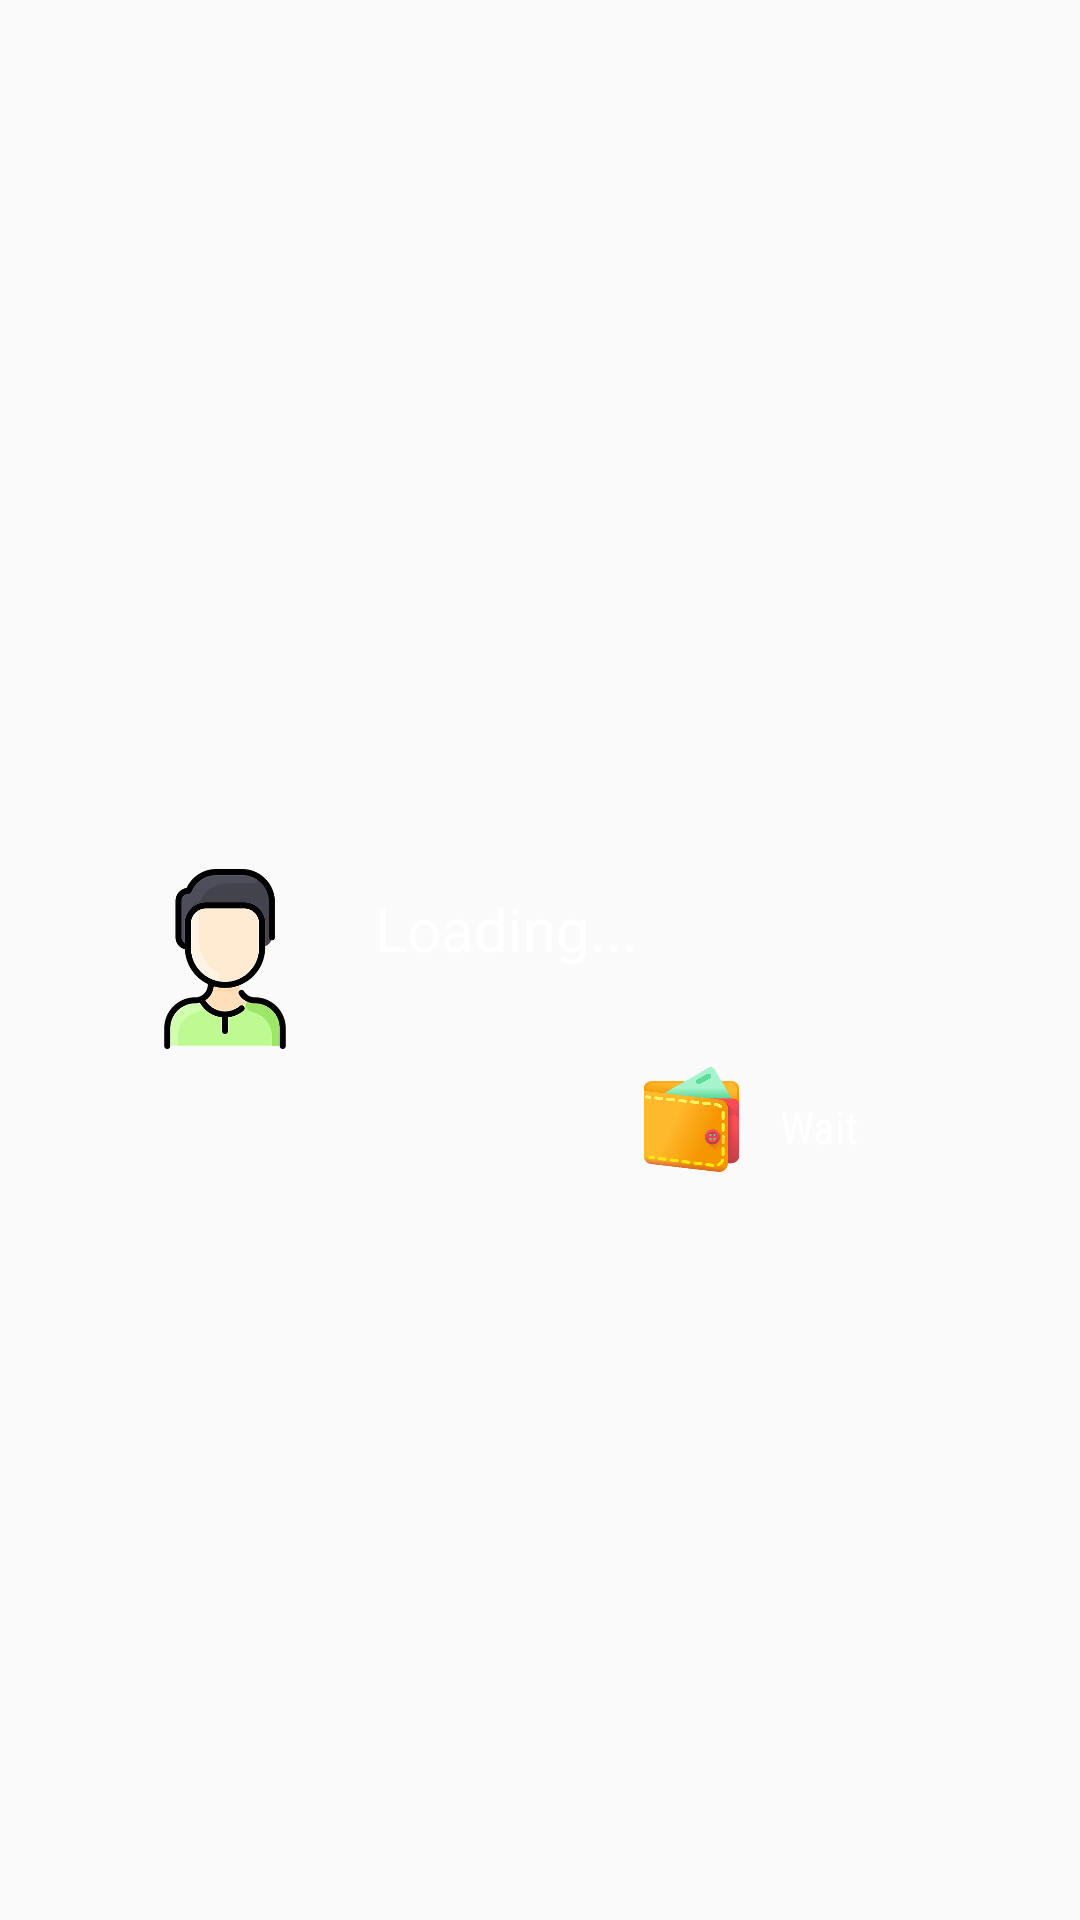

Screen size 1080px×1920px. Icon name, then its box in pixels as [left=x1, top=y1, right=x2, bottom=y2]:
people: [left=164, top=869, right=286, bottom=1049]
wallletheader: [left=644, top=1067, right=739, bottom=1172]
